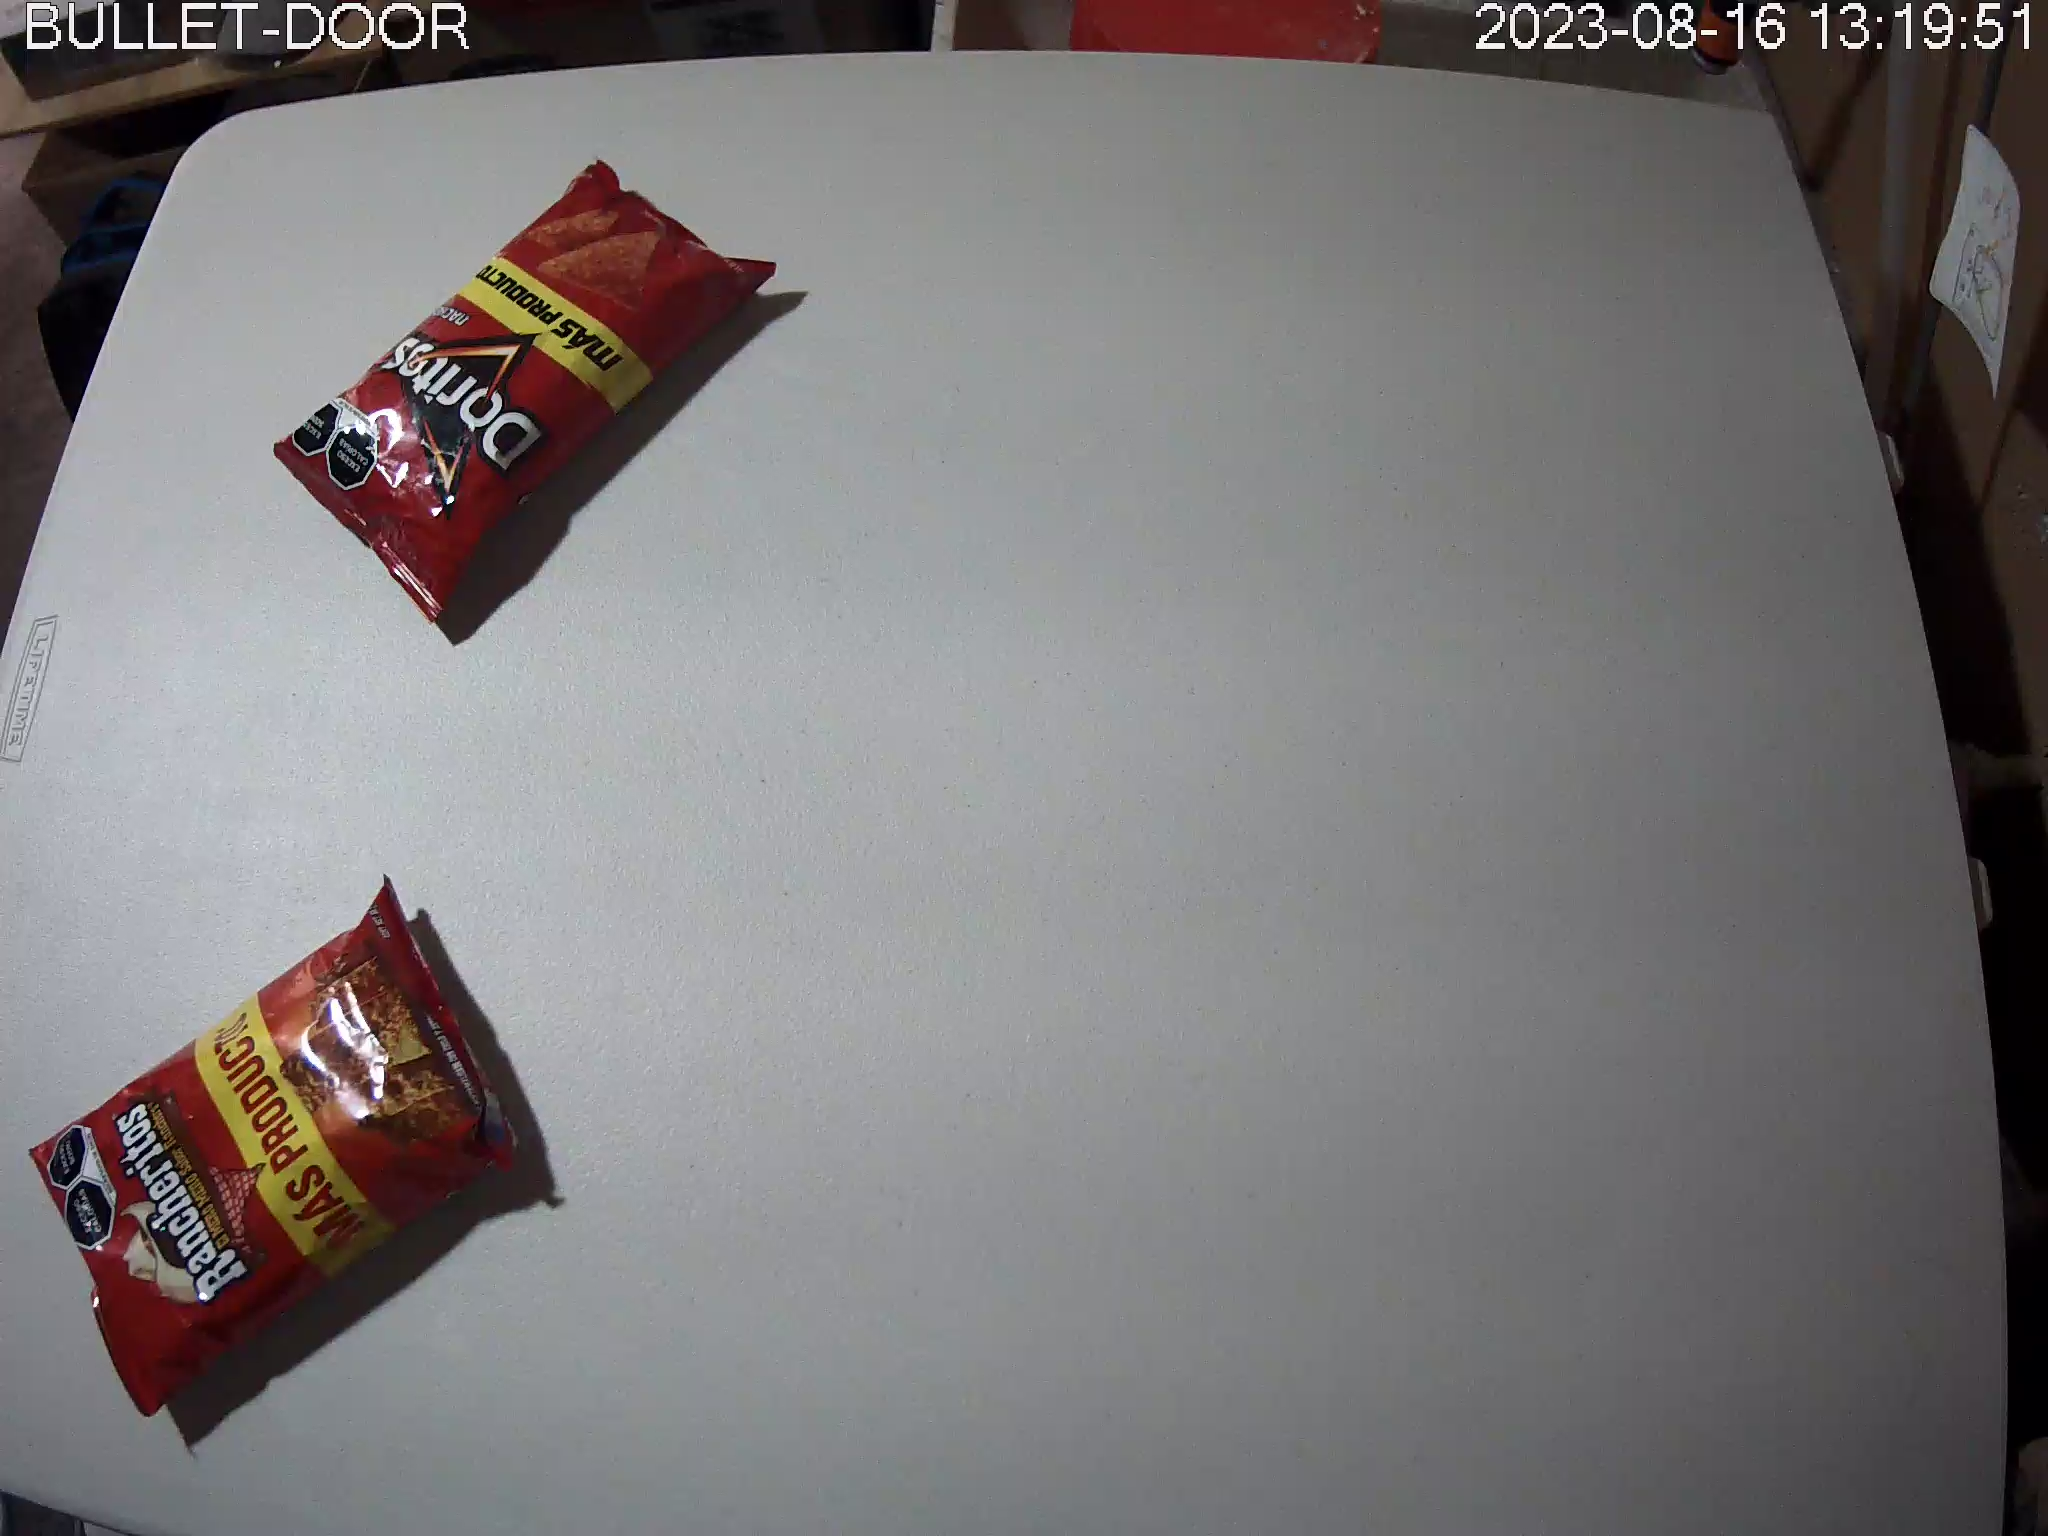DoritosN_61_F: (271, 155, 780, 629)
Rancheritos_58_F: (27, 871, 522, 1418)
